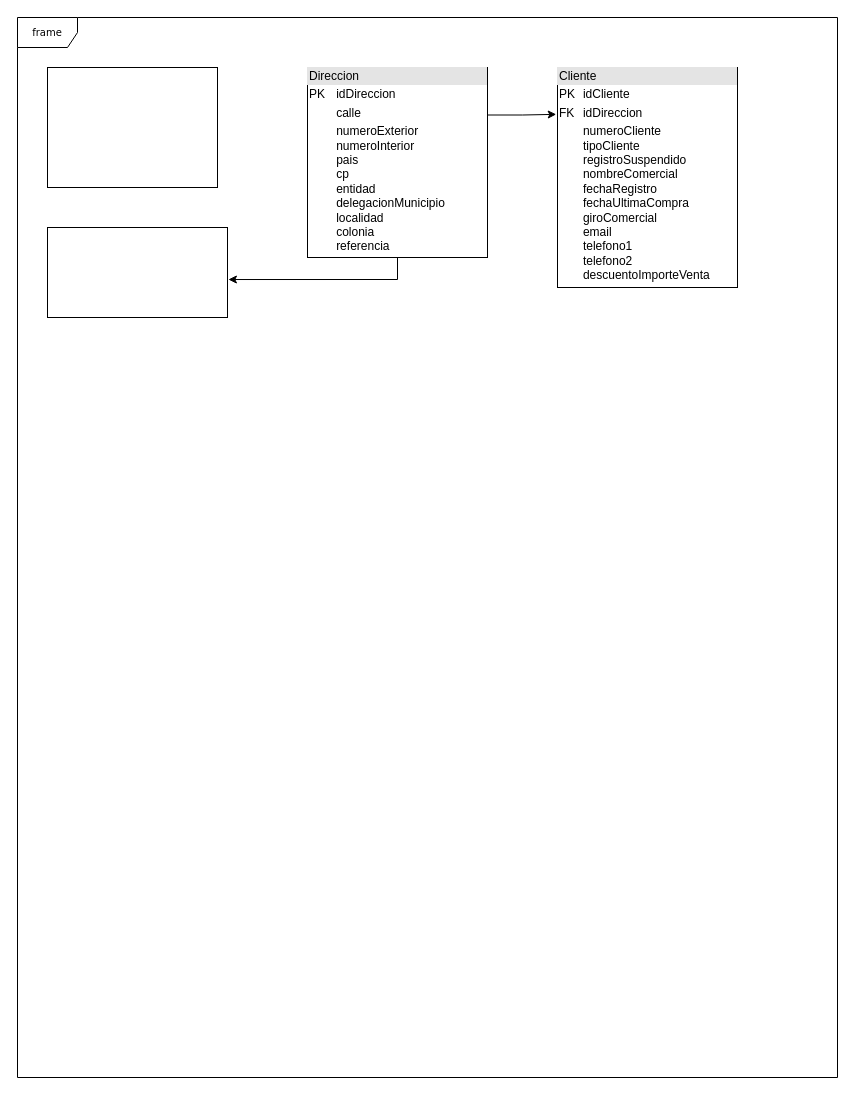
The diagram is 855 pixels wide and 1095 high, and some of its shapes have lost their labels. The shapes that lost their labels are listed below. From the top down, each one's centre as x and y in pixels, then its label:
At (132,127): "Usuarios PK idUsuario nombreCompleto email contrasenia rol telefono".
At (137,272): "Agenda PK idCita FK idDireccion fecha hora".
